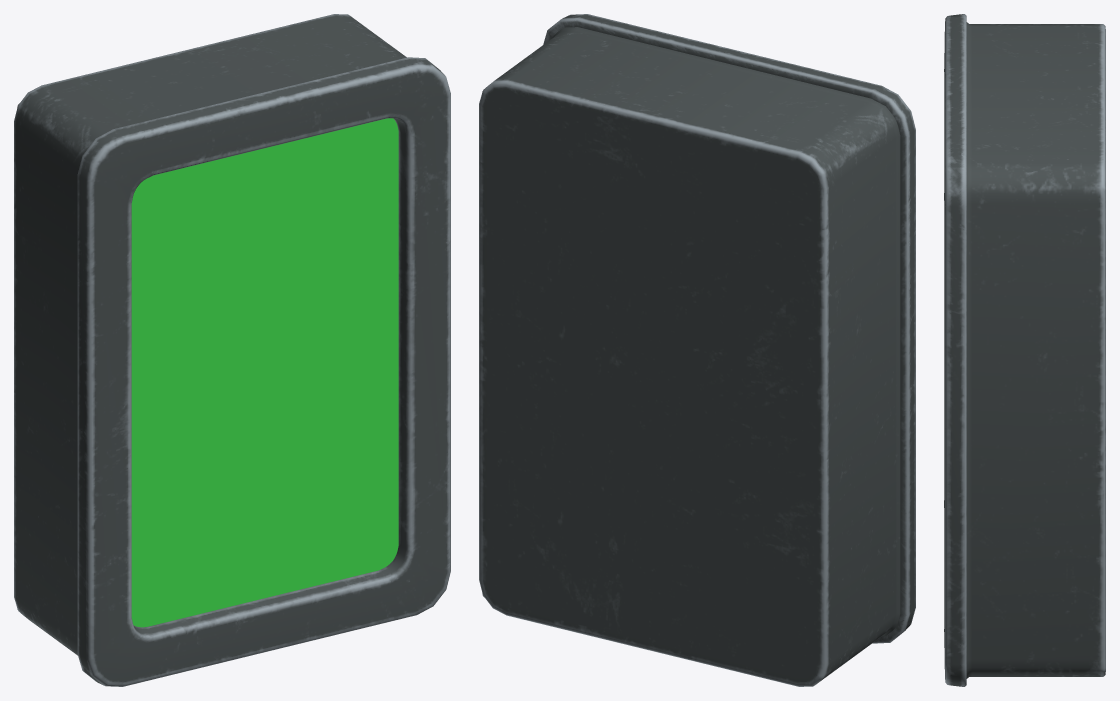
3 views of the same model, side by side, from view 1: azimuth 30°, elevation 25°; view 2: azimuth 150°, elevation 25°; view 3: azimuth 270°, elevation 25° (orthographic). The views are drawn at different scales.
Visible parts, largest first — view 1: d1_low, d1_mattscreen; view 2: d1_low; view 3: d1_low.
Part boxes in pixels (<box>): d1_low: <box>14,14,450,686</box>; d1_mattscreen: <box>131,118,398,627</box>; d1_low: <box>479,14,915,686</box>; d1_low: <box>944,14,1105,686</box>.
Size of the model in its own units: 0.789 by 1.14 by 0.3156.
Materials: 2 (1 with a texture image).
